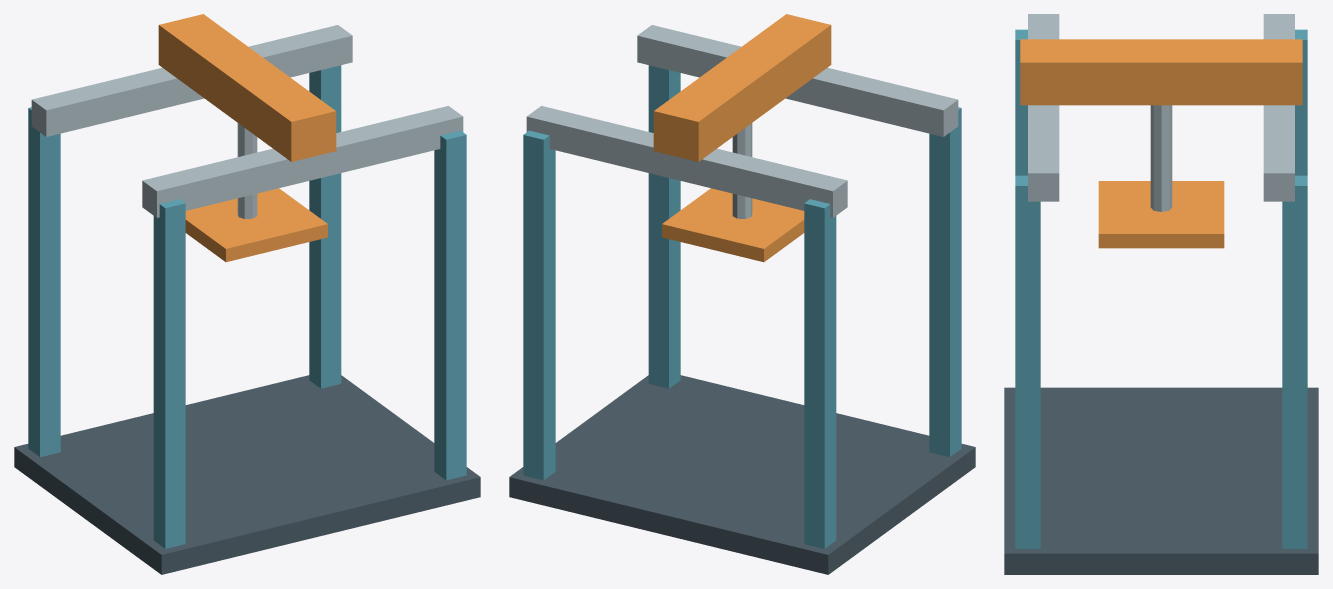
The model's file is palletizing-gantry.glb.
3 views of the same model, side by side, from view 1: azimuth 30°, elevation 25°; view 2: azimuth 150°, elevation 25°; view 3: azimuth 270°, elevation 25° (orthographic). The views are drawn at different scales.
Parts seen in each view (by area): view 1: dark, blue, steel, orange; view 2: dark, blue, steel, orange; view 3: dark, orange, blue, steel.
Part boxes in pixels (left/top/right/bottom): dark: left=14, top=375, right=480, bottom=574; blue: left=28, top=65, right=466, bottom=548; steel: left=31, top=25, right=463, bottom=218; orange: left=158, top=14, right=336, bottom=262; dark: left=509, top=375, right=975, bottom=574; blue: left=523, top=65, right=961, bottom=548; steel: left=526, top=25, right=958, bottom=218; orange: left=653, top=14, right=831, bottom=262; dark: left=1004, top=387, right=1318, bottom=574; orange: left=1020, top=39, right=1302, bottom=248; blue: left=1015, top=29, right=1307, bottom=548; steel: left=1028, top=14, right=1294, bottom=211.
Size of the model in its own units: 2.5 by 3.1 by 2.
